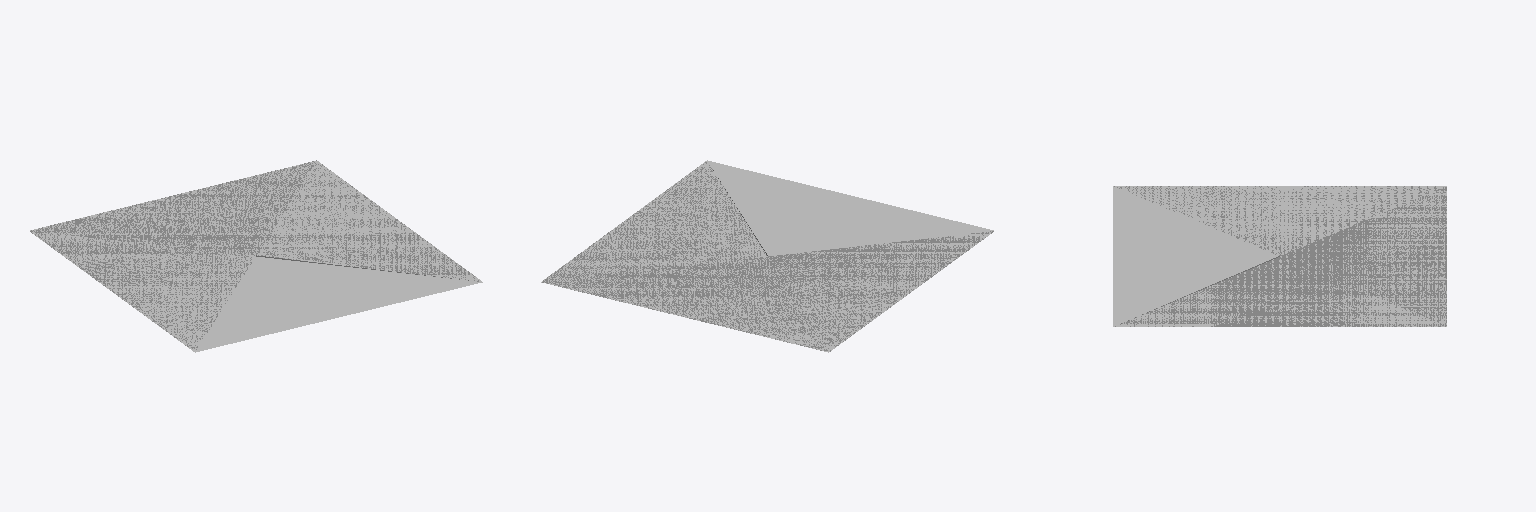
File: frame2.obj
3 renders of one model, left to right at view 1: azimuth 30°, elevation 25°; view 2: azimuth 150°, elevation 25°; view 3: azimuth 270°, elevation 25°, orthographic.
Visible parts, largest first — view 1: ground, Cube; view 2: ground, Cube; view 3: ground, Cube.
Part boxes in pixels (bbox=[...]): ground: bbox=[30, 161, 482, 352]; Cube: bbox=[30, 160, 478, 349]; ground: bbox=[541, 160, 993, 352]; Cube: bbox=[542, 162, 993, 351]; ground: bbox=[1113, 186, 1446, 326]; Cube: bbox=[1114, 186, 1446, 326].
Size of the model in its own units: 2000 by 7.25 by 2000.